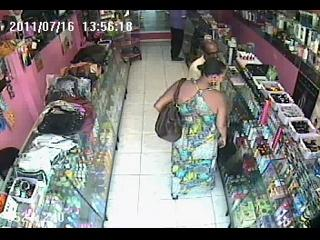Normal: (153, 59, 230, 200), (154, 78, 187, 143), (167, 10, 187, 61)
